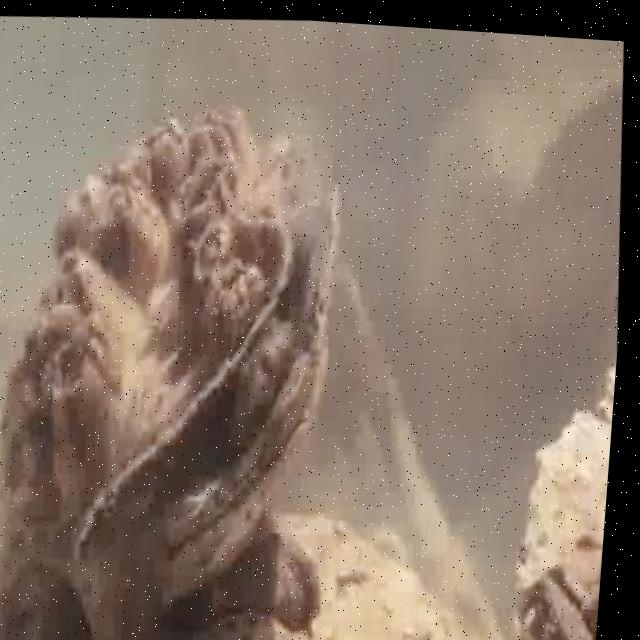Oyster-Indeterminate: (194, 512, 473, 640), (522, 364, 616, 640), (172, 531, 318, 630)
Oyster-Open: (0, 95, 341, 640), (508, 584, 590, 640)
